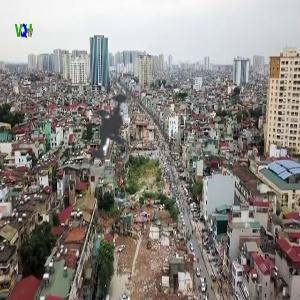drone: (38, 60, 175, 197)
